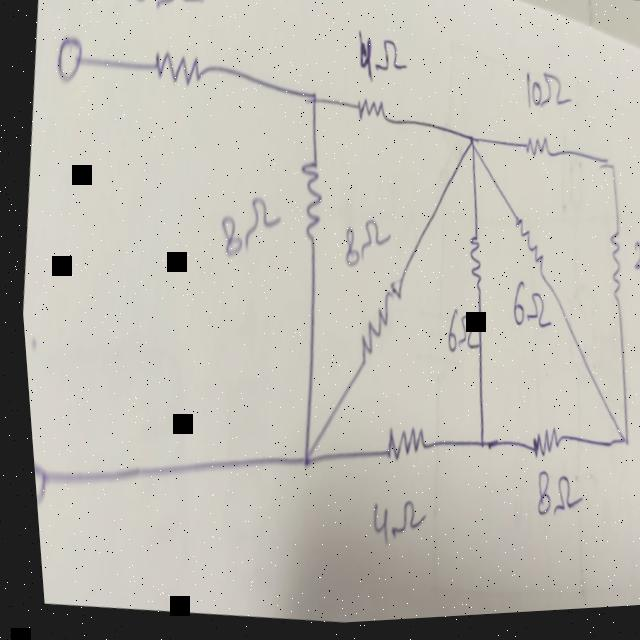junction: (464, 433, 484, 460), (290, 448, 305, 476), (303, 89, 318, 114), (461, 134, 476, 159), (611, 437, 623, 457), (602, 163, 613, 180)
resistor: (345, 277, 402, 373), (139, 33, 211, 96), (285, 156, 325, 246), (502, 215, 547, 285), (373, 422, 421, 465), (596, 232, 623, 307), (455, 233, 483, 298), (518, 425, 554, 465), (349, 95, 385, 128), (518, 134, 549, 165)
terminal: (49, 28, 85, 86), (26, 447, 44, 505)
text: (208, 187, 282, 266), (349, 26, 410, 91), (358, 492, 419, 549), (334, 212, 390, 273), (522, 470, 577, 525), (517, 69, 573, 122), (502, 281, 550, 339), (435, 306, 476, 364), (128, 0, 206, 16), (623, 234, 640, 286)
